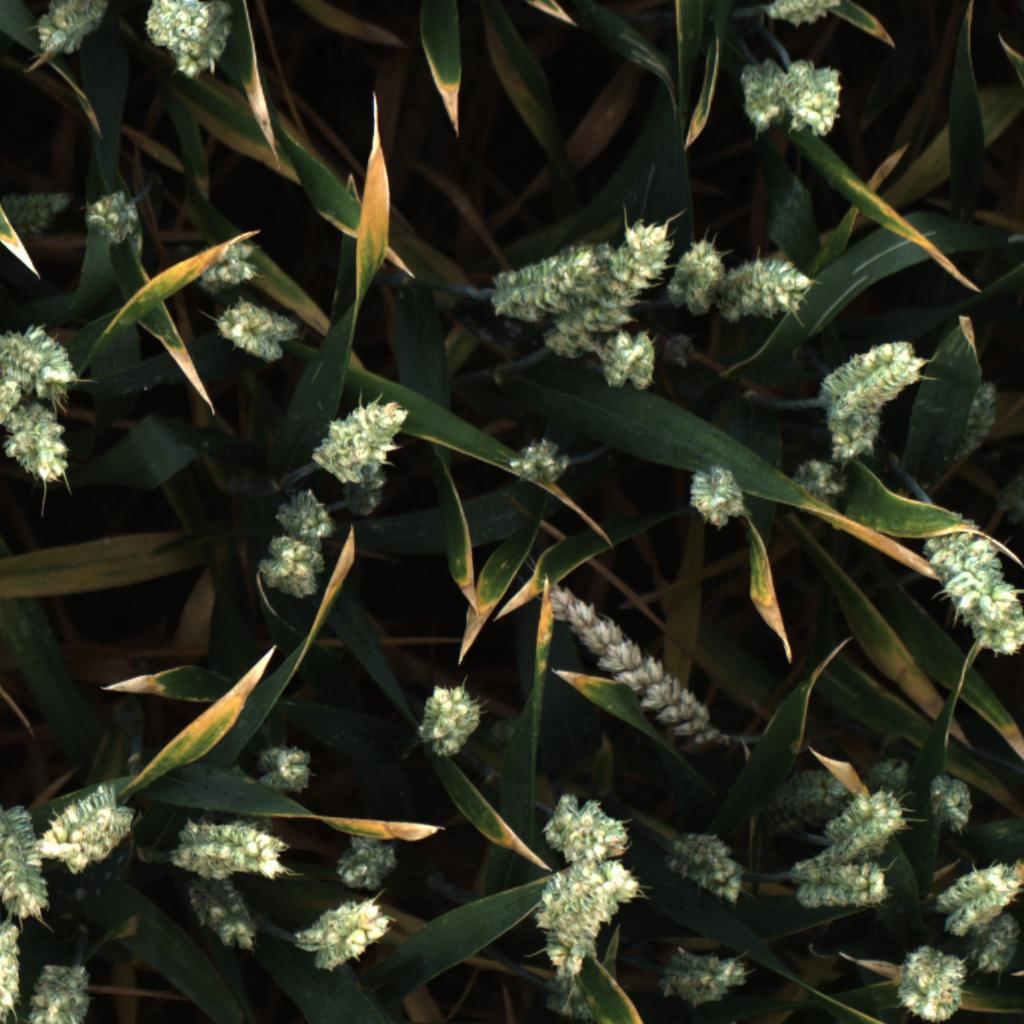0-0: (537, 572, 733, 751), (537, 213, 678, 366), (915, 527, 1024, 658), (533, 856, 645, 977), (486, 236, 623, 328), (22, 780, 140, 884), (167, 809, 288, 885), (815, 333, 925, 414), (310, 400, 408, 487), (139, 0, 237, 87), (294, 892, 388, 973), (930, 861, 1021, 941), (717, 254, 820, 324), (543, 787, 637, 863), (663, 823, 748, 906), (818, 786, 907, 865), (0, 800, 55, 926), (0, 324, 77, 414), (183, 869, 264, 950), (651, 944, 755, 1007), (0, 407, 76, 492), (782, 58, 855, 140), (213, 296, 301, 363), (417, 678, 488, 758), (677, 457, 754, 530), (898, 944, 968, 1024), (792, 843, 886, 901), (760, 764, 850, 824), (668, 227, 729, 315), (22, 958, 103, 1024), (27, 0, 113, 62), (255, 537, 331, 604), (592, 326, 659, 402), (328, 826, 402, 894), (733, 50, 789, 138), (0, 185, 76, 243), (74, 185, 146, 246), (954, 377, 1005, 462), (792, 876, 897, 917), (255, 736, 319, 800), (273, 486, 340, 547), (503, 429, 571, 487), (823, 402, 884, 464), (196, 237, 260, 296), (971, 907, 1022, 981), (788, 449, 852, 507), (340, 460, 393, 522), (923, 773, 980, 830), (539, 971, 600, 1024), (763, 0, 856, 31), (0, 919, 20, 1024), (990, 472, 1024, 527), (0, 372, 26, 425)
